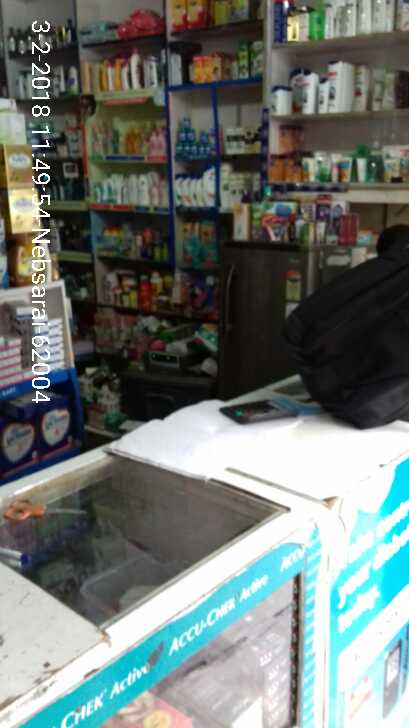vicks: (173, 114, 220, 156)
